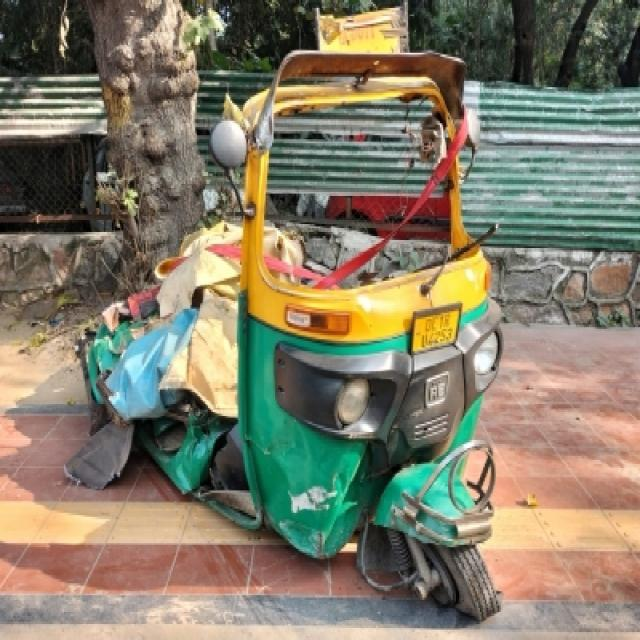accident: (66, 54, 502, 617)
